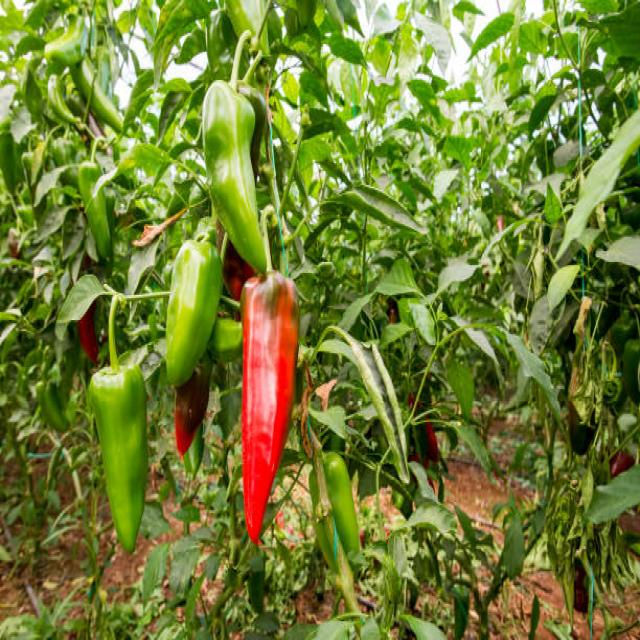Ripe: (242, 271, 297, 540)
Unripe: (199, 27, 272, 279), (88, 364, 147, 551), (163, 234, 226, 392), (324, 453, 359, 557)
